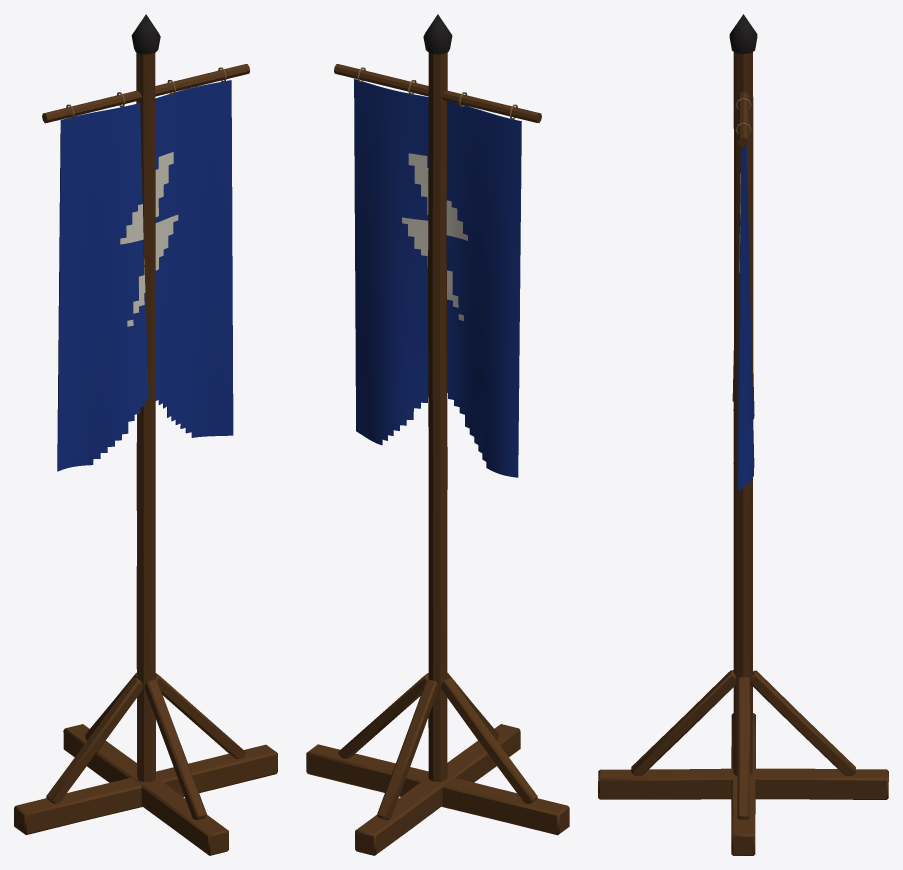
The model's file is banner_blau.glb.
3 renders of one model, left to right at view 1: azimuth 30°, elevation 25°; view 2: azimuth 150°, elevation 25°; view 3: azimuth 270°, elevation 25°, orthographic.
Parts seen in each view (by area): view 1: banner_blau; view 2: banner_blau; view 3: banner_blau.
Part boxes in pixels (x1,y1,x2,y2): banner_blau: (14,14,277,855); banner_blau: (306,14,569,855); banner_blau: (598,14,888,855).
Size of the model in its own units: 1.2 by 3.56 by 1.2.
